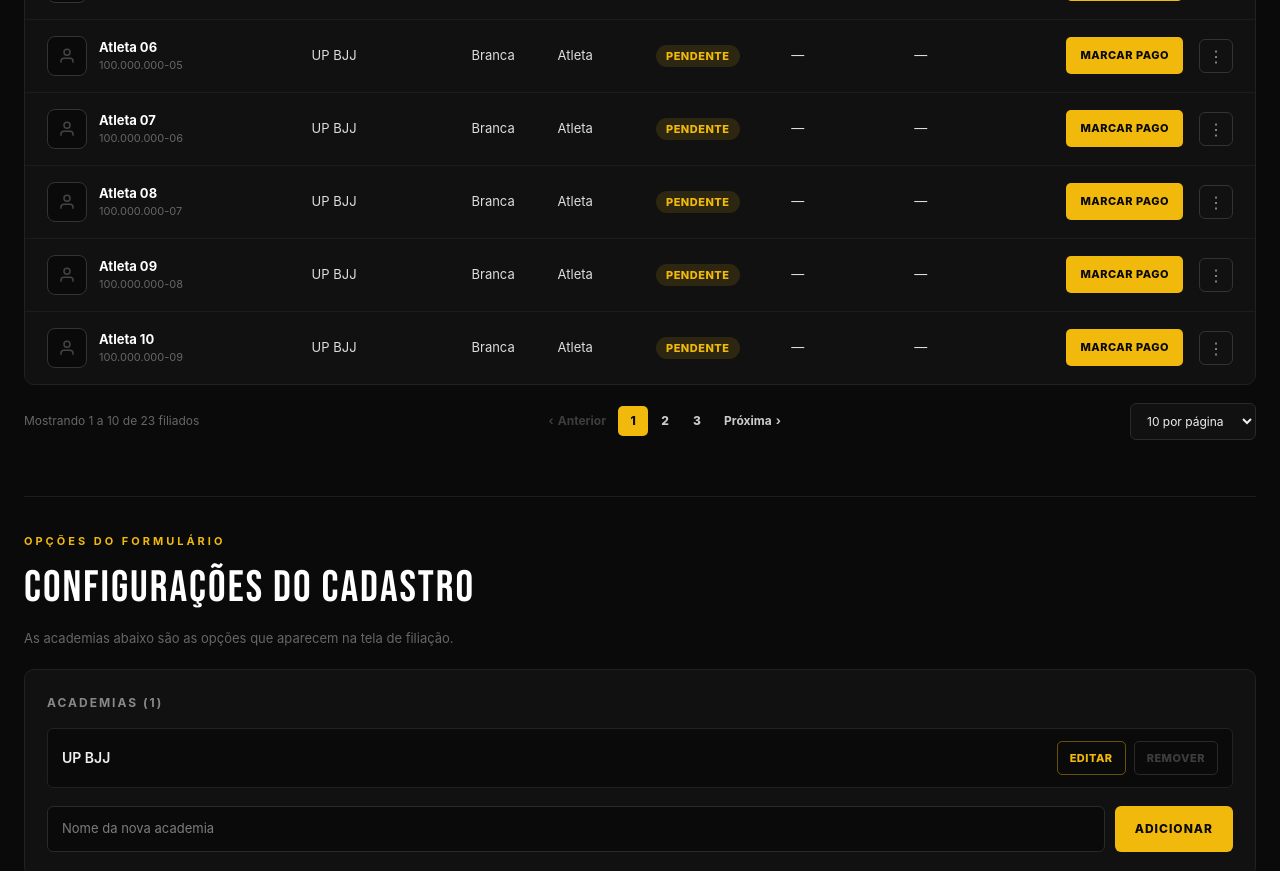
Admin — paginação (desktop) › avança e volta de página
(page scrolled)
Click the button with aria-label "próxima página" at (752, 421), box [714,404,791,438]
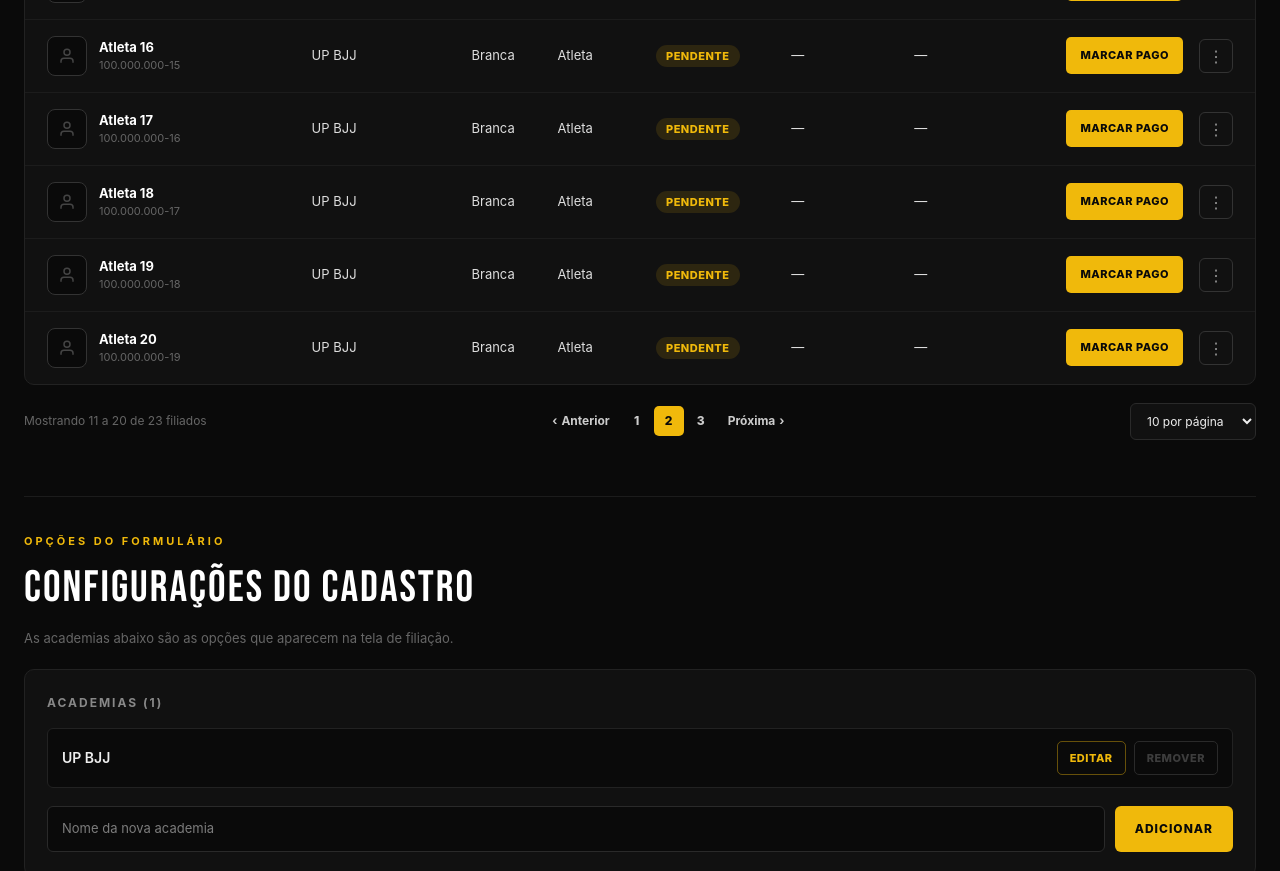
Now the text "Mostrando 11 a 20 de 23 filiados" is shown, box [24,412,207,430]
Now the text "Atleta 10" is gone
Click the button with aria-label "página anterior" at (581, 421), box [542,404,620,438]
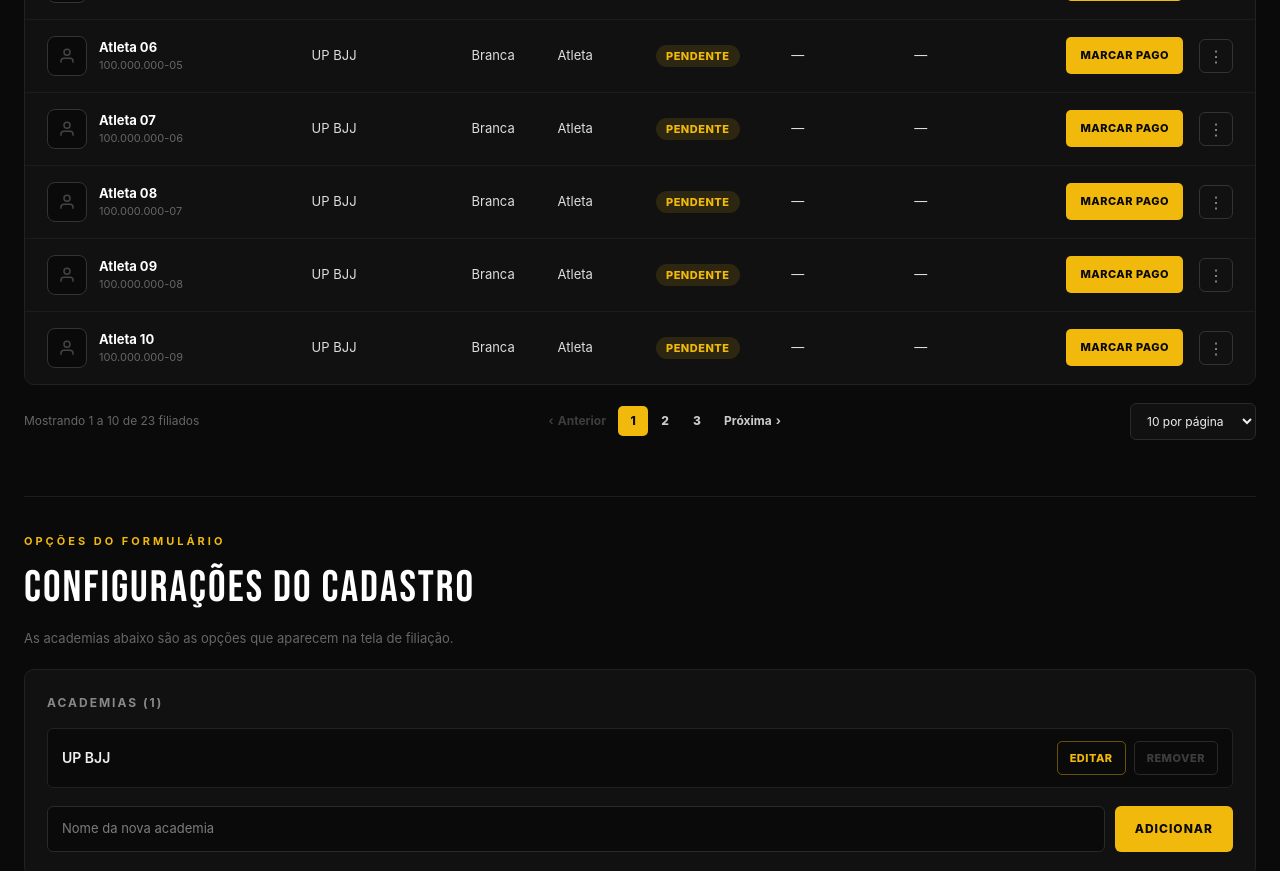
Now the text "Mostrando 1 a 10 de 23 filiados" is shown, box [24,412,199,430]
